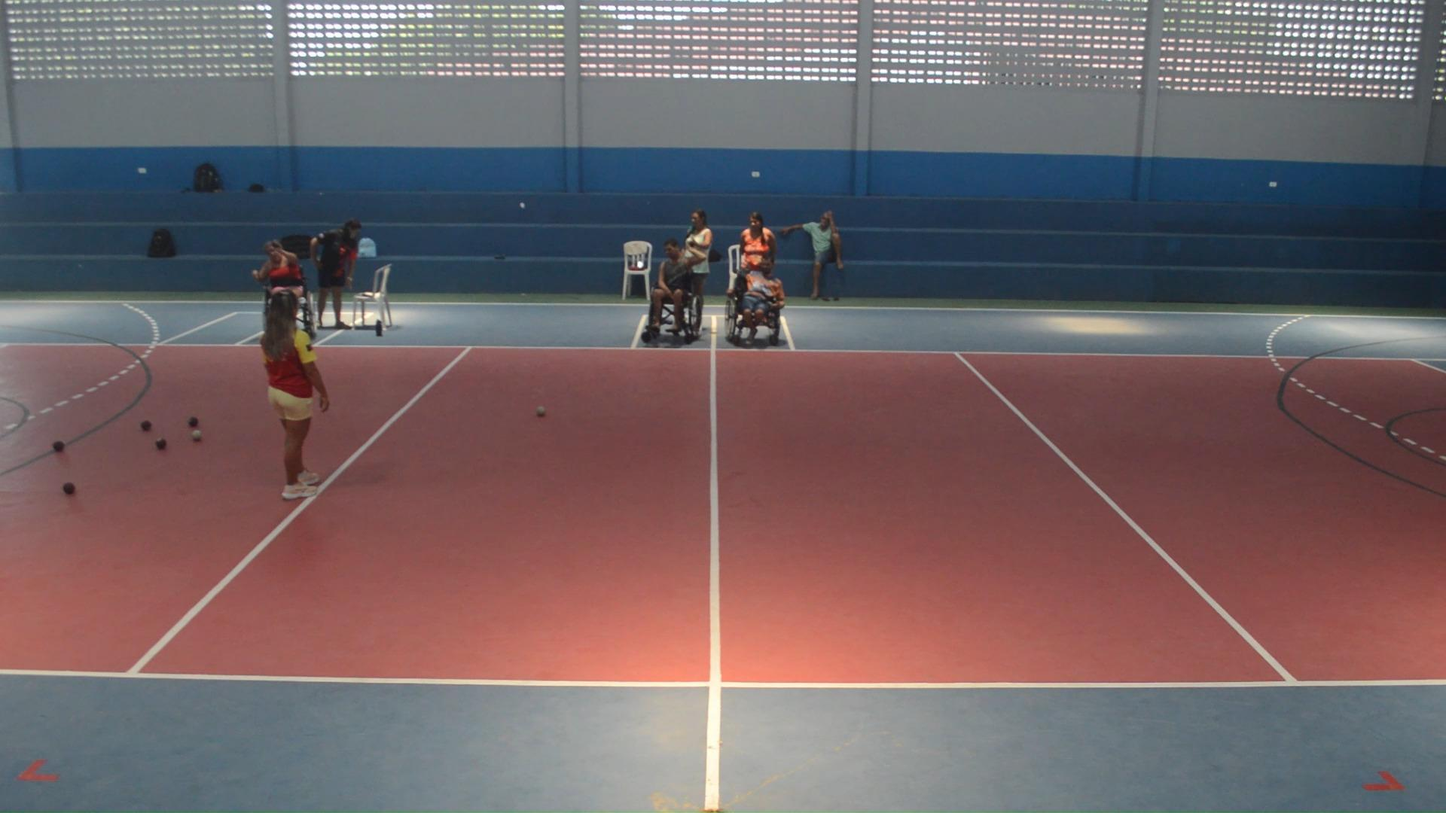white_ball: (536, 407, 546, 417)
